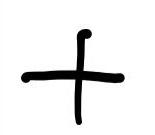plus: (18, 28, 124, 125)
